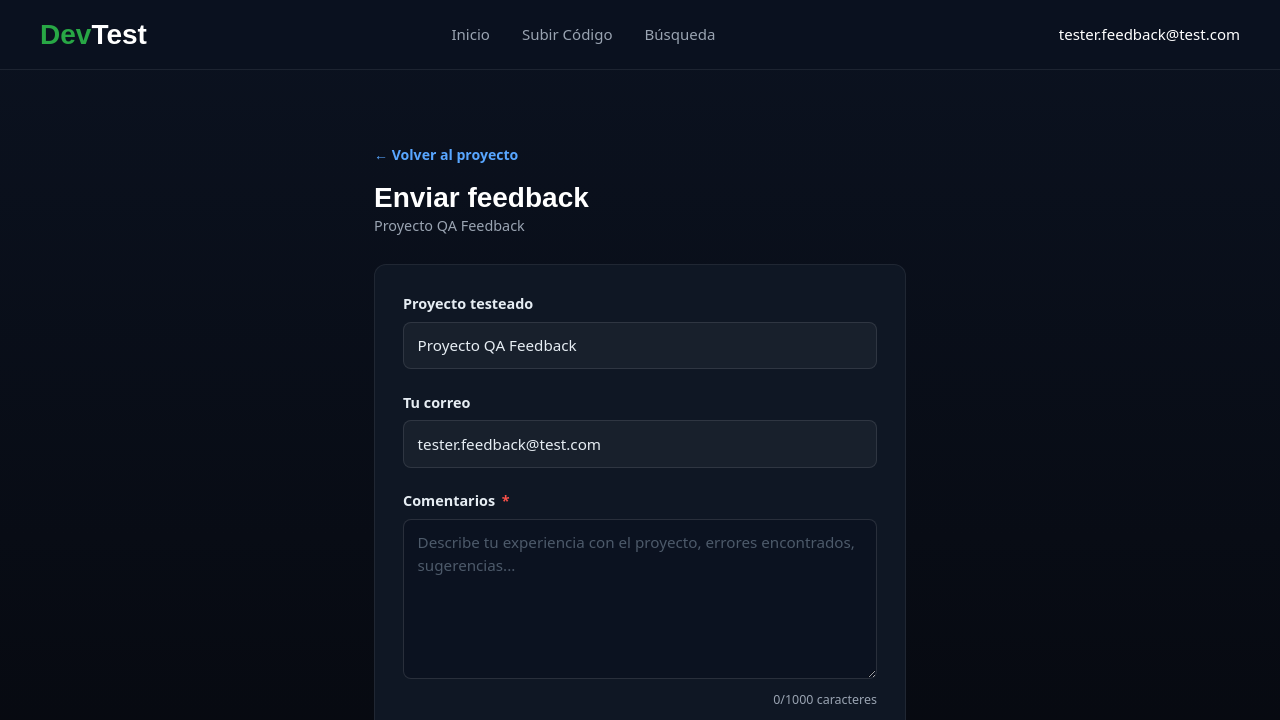
Scenario: DT_08 - Enviar feedback de proyecto › DT_08_08: Rechaza envio cuando no hay archivo
In the text box with id "texto-feedback": point(640, 599) [403,519,877,679], type "Texto valido de feedback"
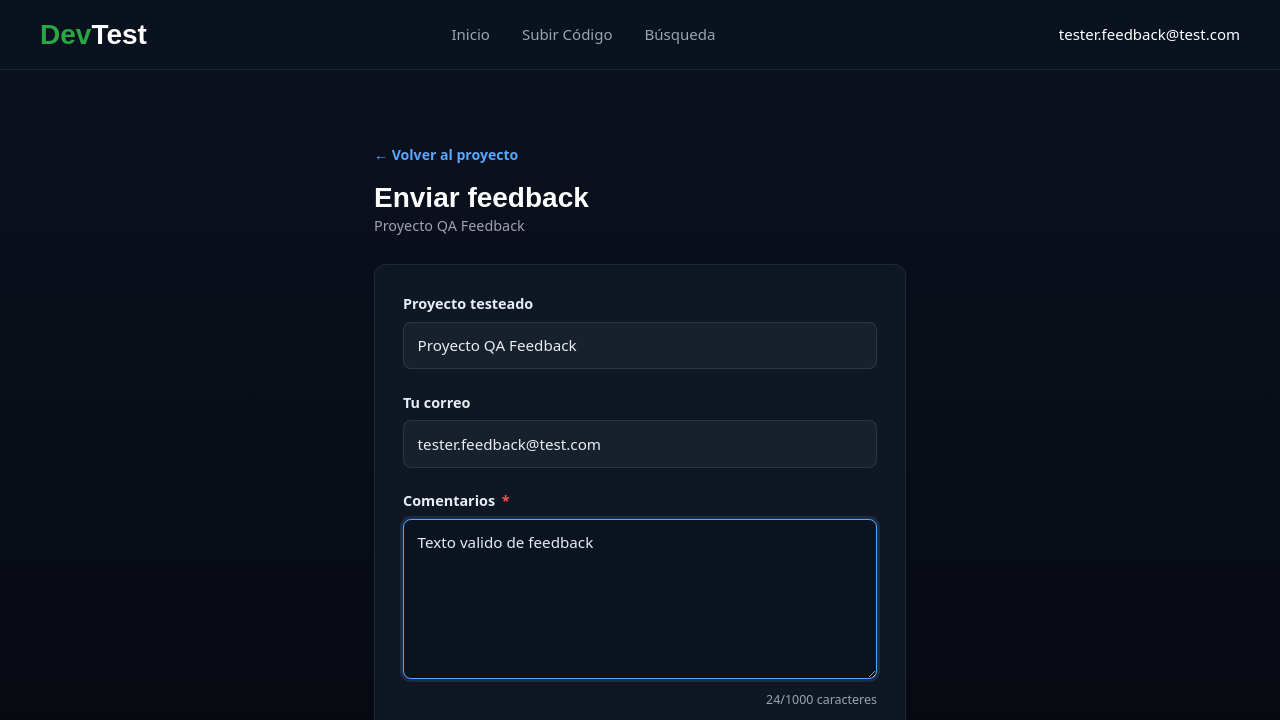
Scroll
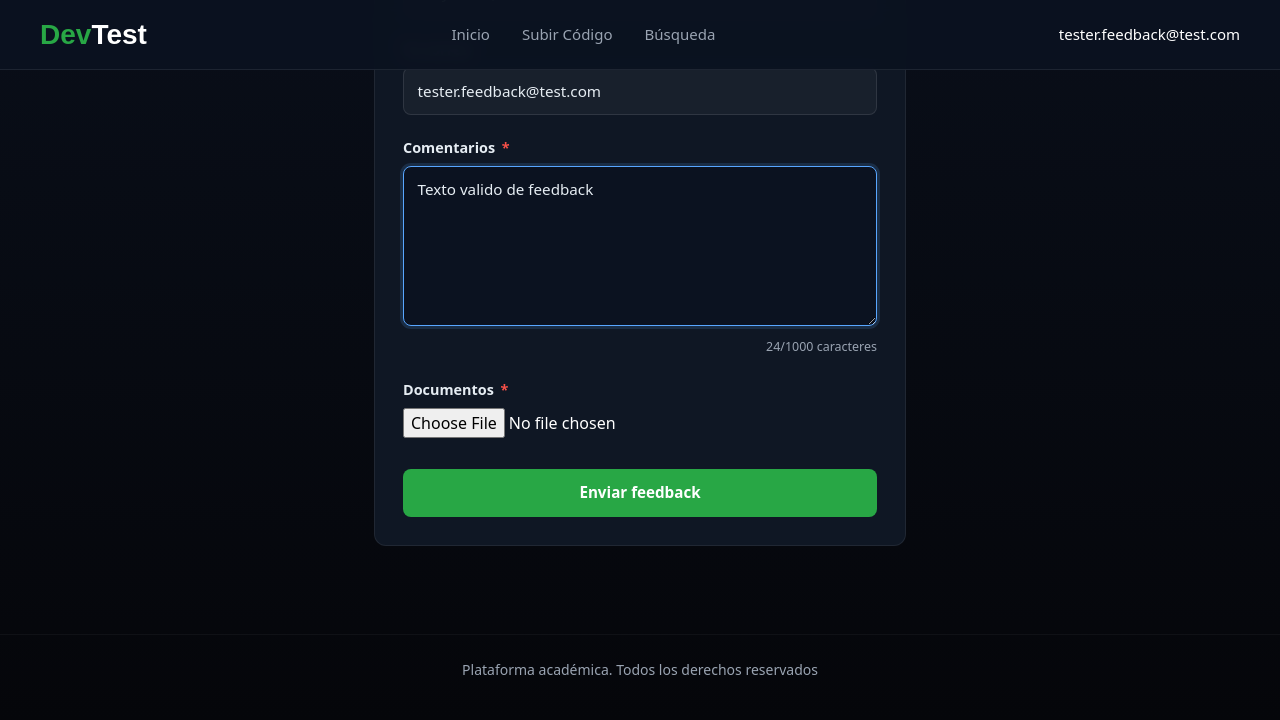
Click the button with class "feedback-boton-enviar": point(640, 493) [403,469,877,517]
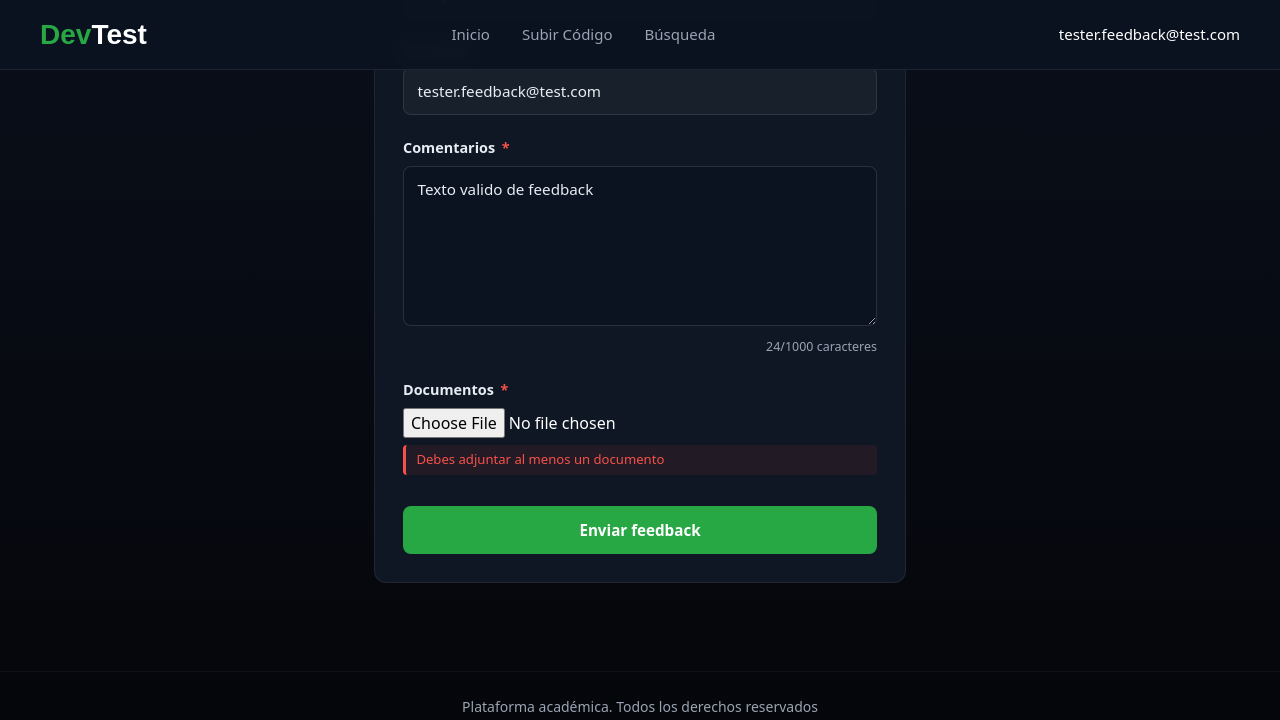
Check: the text "Debes adjuntar al menos un documento" is shown, box [403,444,877,475]
